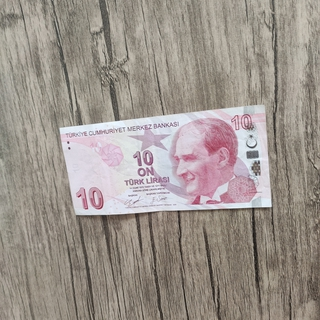10TLFront: (58, 103, 273, 217)
